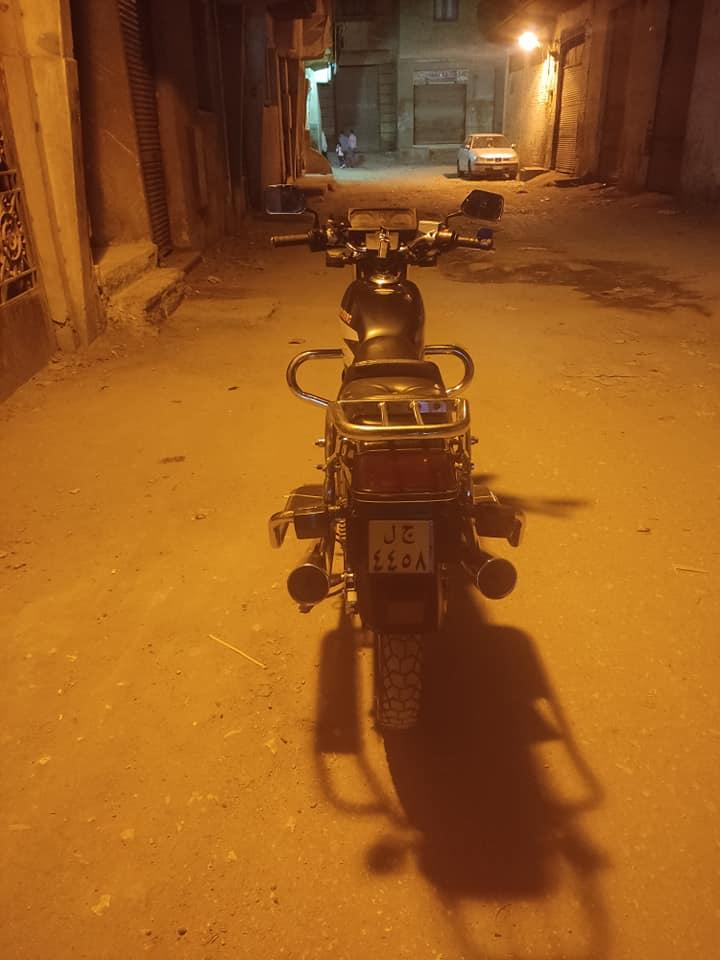License Plate: (365, 503, 438, 577)
